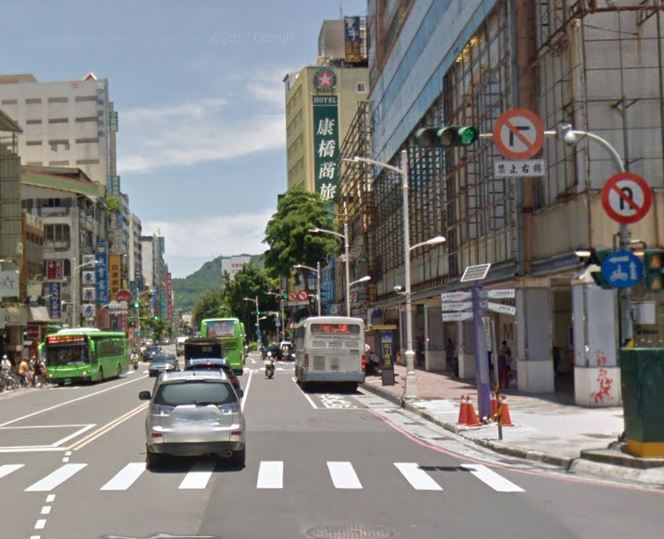Traffic_light_green: (411, 124, 478, 149)
car: (141, 366, 250, 474)
